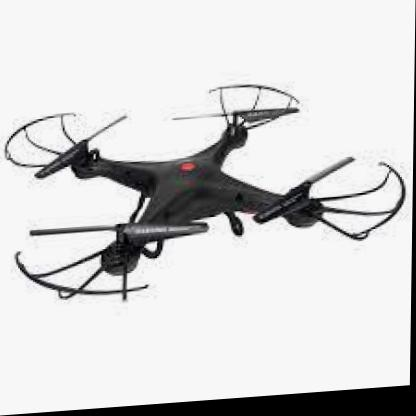UAS: (3, 78, 407, 311)
